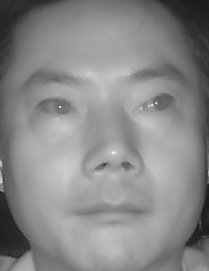eye: (136, 90, 177, 119), (35, 95, 79, 120)
mouth: (73, 192, 150, 232)
